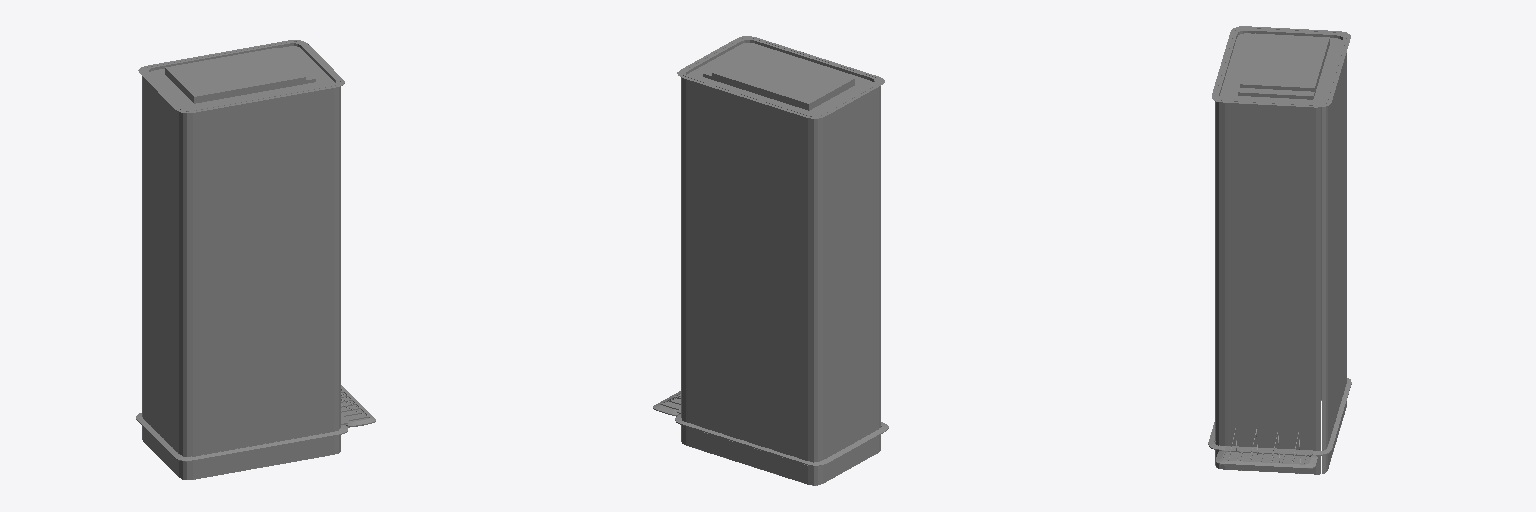
3 views of the same model, side by side, from view 1: azimuth 30°, elevation 25°; view 2: azimuth 150°, elevation 25°; view 3: azimuth 270°, elevation 25° (orthographic).
Visible parts, largest first — view 1: JZ_JX_00; view 2: JZ_JX_00; view 3: JZ_JX_00.
Part boxes in pixels (x1,y1,x2,y2): JZ_JX_00: (136, 40, 375, 479); JZ_JX_00: (653, 36, 888, 485); JZ_JX_00: (1208, 26, 1351, 474).
Size of the model in its own units: 6990 by 12479 by 4355.